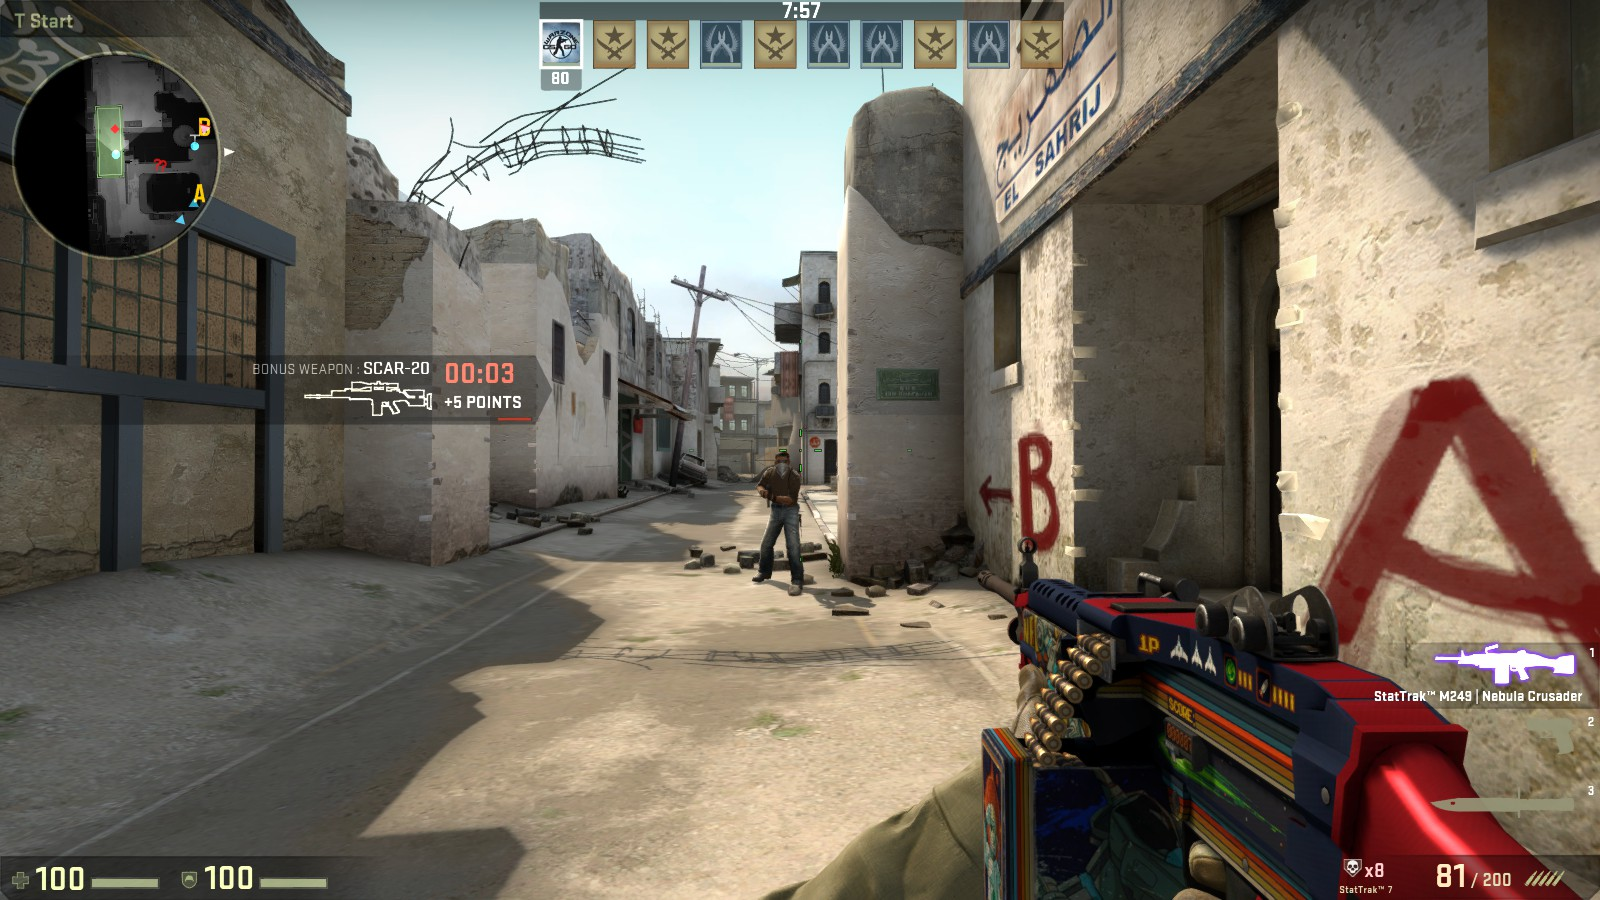t: (755, 445, 805, 593)
th: (773, 451, 795, 477)
